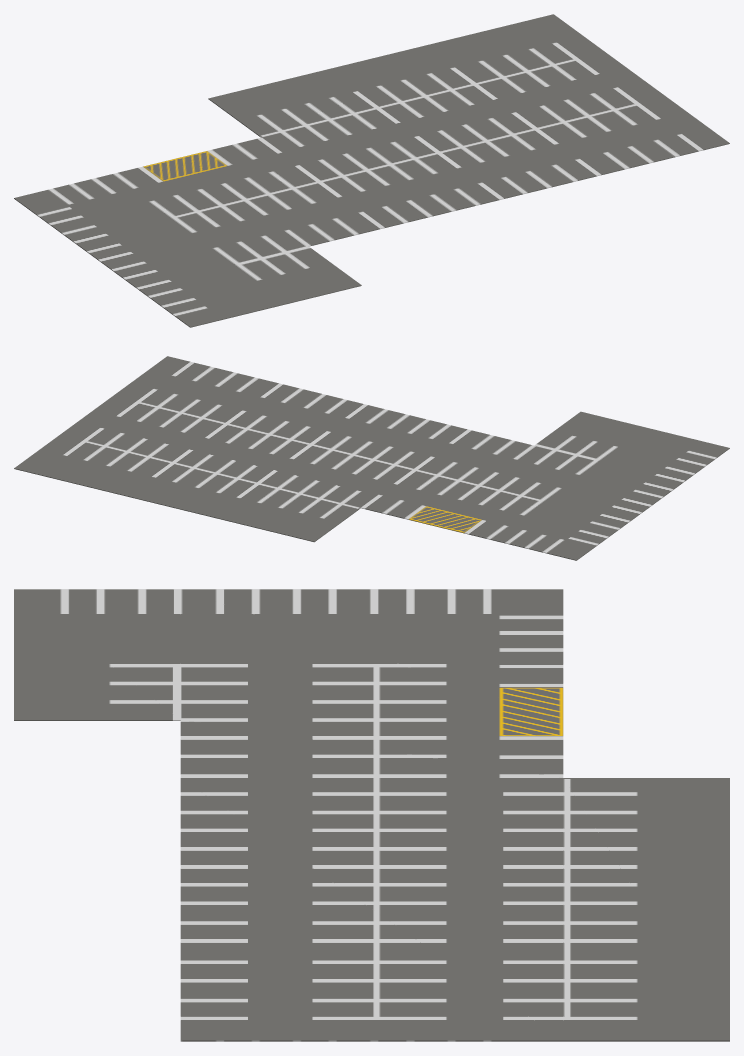
Rendered from ParkingLot.FBX.
3 views of the same model, one above another, from view 1: azimuth 30°, elevation 25°; view 2: azimuth 150°, elevation 25°; view 3: azimuth 270°, elevation 25° (orthographic). The views are drawn at different scales.
Visible parts, largest first — view 1: Box001; view 2: Box001; view 3: Box001.
Part boxes in pixels (left/top/right/bottom): Box001: left=14, top=14, right=729, bottom=327; Box001: left=14, top=356, right=729, bottom=560; Box001: left=14, top=589, right=729, bottom=1041.
Bounding box in the file's own units: 4.49 × 0.00508 × 3.01.
